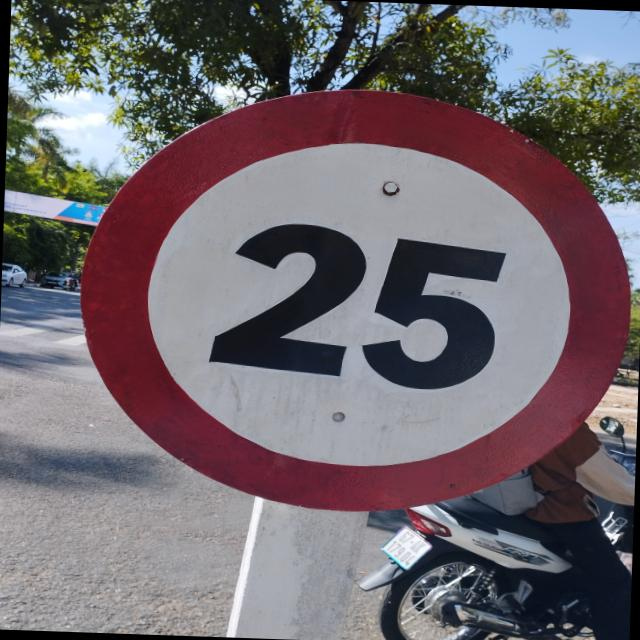Tre_Em: (67, 80, 640, 518)
